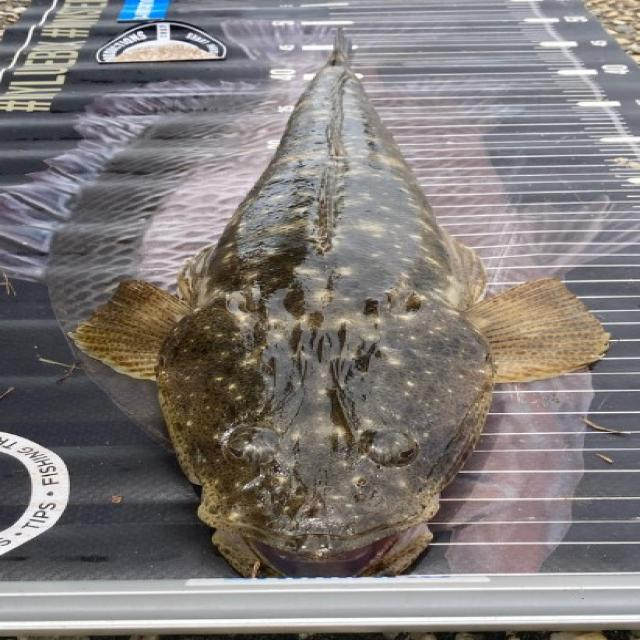Flathead: (64, 27, 615, 590)
